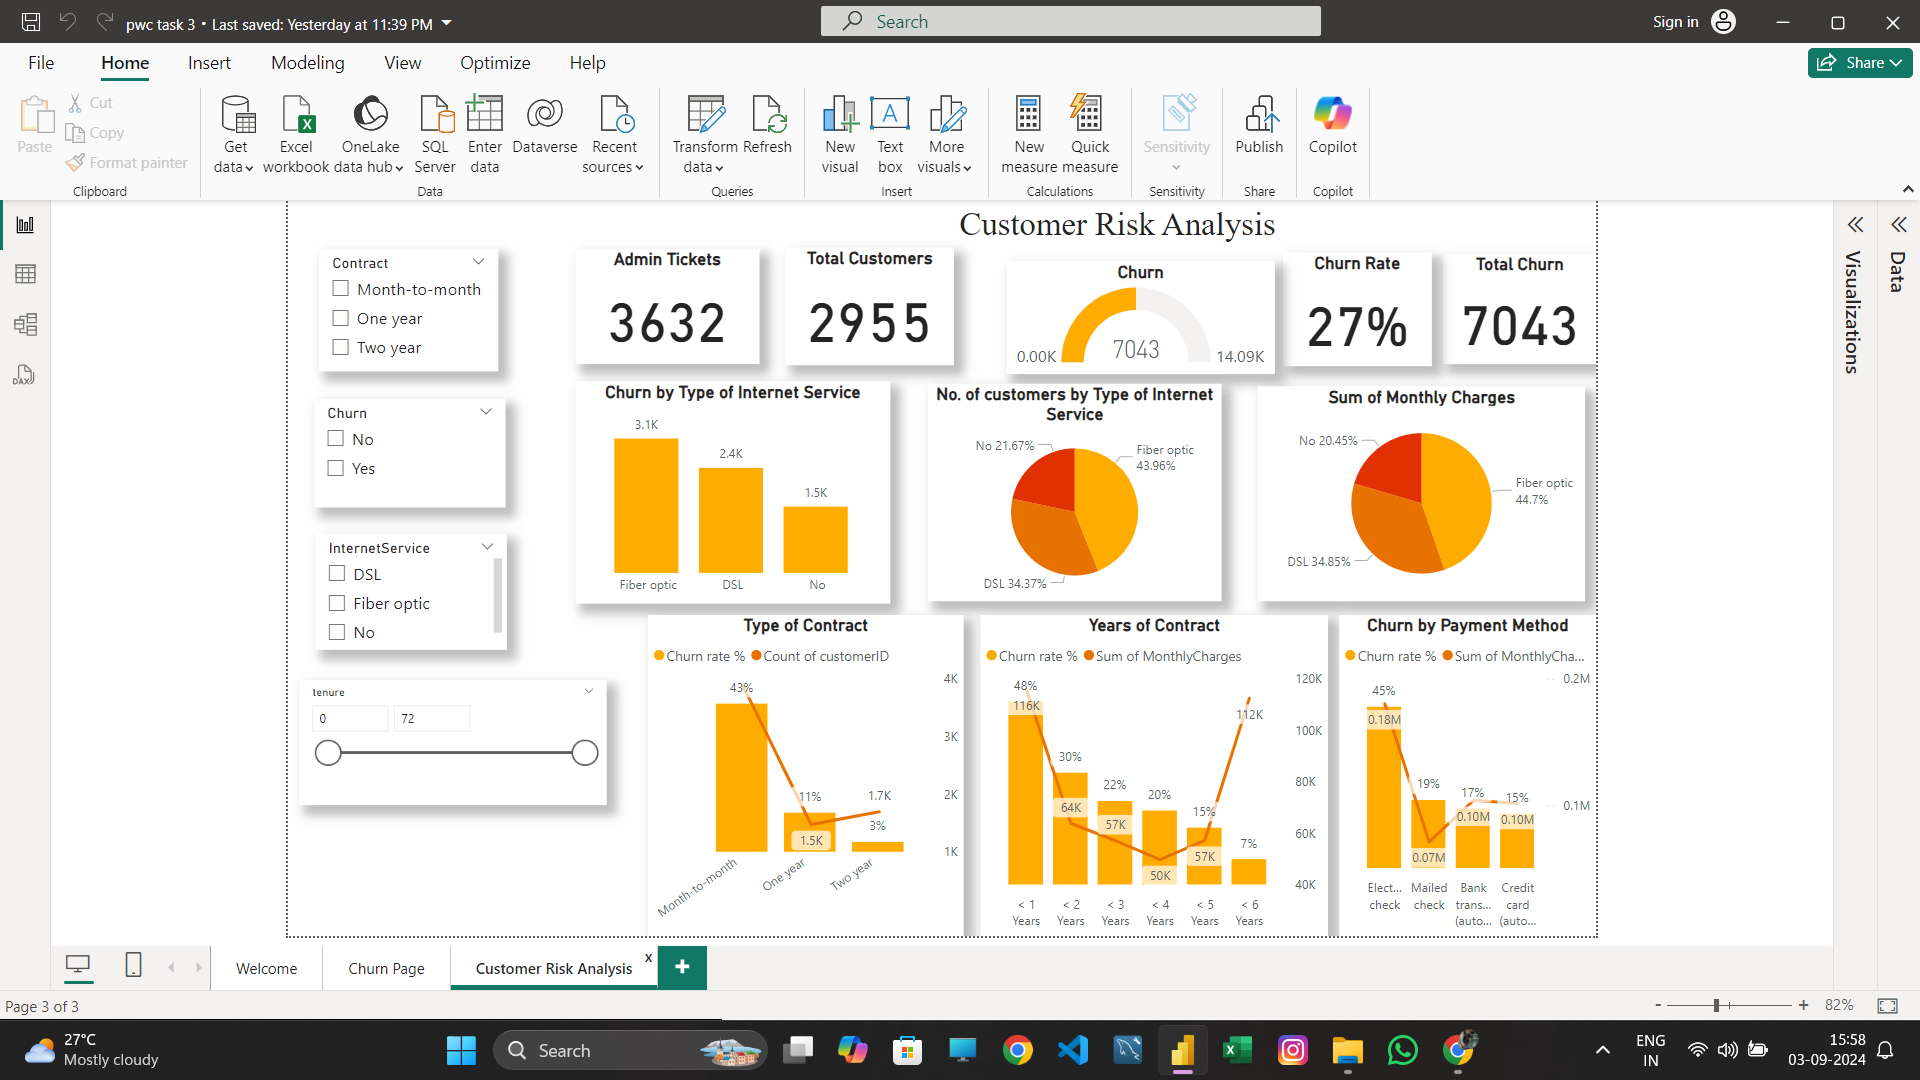

What the dashboard file says about the page in this screenshot:
{"tool":"powerbi","page":{"name":"Customer Risk Analysis","canvas":[1280,720],"ordinal":2},"visuals":[{"type":"textbox","box":[651.2,0,330.8,66.4],"z":0},{"type":"card","title":"Admin Tickets","fields":{"Values":["Sum(01 Churn-Dataset.numAdminTickets)"]},"box":[281.3,47.7,179.8,112.5],"z":8},{"type":"slicer","fields":{"Values":["01 Churn-Dataset.InternetService"]},"box":[26.9,326.5,187.1,113.7],"z":11},{"type":"slicer","fields":{"Values":["01 Churn-Dataset.Churn"]},"box":[25.7,194.4,187.1,106.4],"z":12},{"type":"slicer","fields":{"Values":["01 Churn-Dataset.tenure"]},"box":[11,469.6,300.8,122.3],"z":13},{"type":"slicer","fields":{"Values":["01 Churn-Dataset.Contract"]},"box":[30.6,47.7,174.9,119.8],"z":14},{"type":"card","title":"Total Churn","fields":{"Values":["CountNonNull(01 Churn-Dataset.Churn)"]},"box":[1129.9,52.6,150.4,107.6],"z":16},{"type":"card","title":"Churn Rate","fields":{"Values":["01 Churn-Dataset.Churn rate %"]},"box":[973.4,51.4,145.5,111.3],"z":17},{"type":"gauge","title":"Churn","fields":{"Y":["CountNonNull(01 Churn-Dataset.customerID)"]},"box":[703.6,59.4,262.1,110.7],"z":18},{"type":"card","title":"Total Customers","fields":{"Values":["Sum(01 Churn-Dataset.numTechTickets)"]},"box":[486.7,46.5,165.1,114.9],"z":19},{"type":"clusteredColumnChart","title":"Churn by Type of Internet Service","fields":{"Category":["01 Churn-Dataset.InternetService"],"Y":["CountNonNull(01 Churn-Dataset.Churn)"]},"box":[281.3,177.3,308.2,217.7],"z":20},{"type":"pieChart","title":"No. of customers by Type of Internet Service","fields":{"Category":["01 Churn-Dataset.InternetService"],"Y":["CountNonNull(01 Churn-Dataset.customerID)"]},"box":[626.1,179.8,287.4,212.8],"z":21},{"type":"pieChart","title":"Sum of Monthly Charges","fields":{"Category":["01 Churn-Dataset.InternetService"],"Y":["Sum(01 Churn-Dataset.tenure)"]},"box":[948.9,182.2,320.4,210.3],"z":22},{"type":"lineStackedColumnComboChart","title":"Type of Contract","fields":{"Y":["01 Churn-Dataset.Churn rate %"],"Category":["01 Churn-Dataset.Contract"],"Y2":["CountNonNull(01 Churn-Dataset.customerID)"]},"box":[351.8,405.4,308.7,314.5],"z":23},{"type":"lineStackedColumnComboChart","title":"Years of Contract","fields":{"Category":["01 Churn-Dataset.Subscription"],"Y":["01 Churn-Dataset.Churn rate %"],"Y2":["Sum(01 Churn-Dataset.MonthlyCharges)"]},"box":[678,405.4,340.2,314.5],"z":24},{"type":"lineStackedColumnComboChart","title":"Churn by Payment Method","fields":{"Category":["01 Churn-Dataset.PaymentMethod"],"Y":["01 Churn-Dataset.Churn rate %"],"Y2":["Sum(01 Churn-Dataset.MonthlyCharges)"]},"box":[1028.4,405.4,251.6,314.5],"z":25}]}

Visuals, with their boxes on the page's 1280x720 design canvas (x1, y1, x2, y2). These are canvas units, not pixel positions in the 1920x1080 screenshot, which may show the page scaled, cropped or inside an application window:
textbox: [left=651, top=0, right=982, bottom=66]
"Admin Tickets" card: [left=281, top=48, right=461, bottom=160]
slicer - 01 Churn-Dataset.InternetService: [left=27, top=326, right=214, bottom=440]
slicer - 01 Churn-Dataset.Churn: [left=26, top=194, right=213, bottom=301]
slicer - 01 Churn-Dataset.tenure: [left=11, top=470, right=312, bottom=592]
slicer - 01 Churn-Dataset.Contract: [left=31, top=48, right=206, bottom=168]
"Total Churn" card: [left=1130, top=53, right=1280, bottom=160]
"Churn Rate" card: [left=973, top=51, right=1119, bottom=163]
"Churn" gauge: [left=704, top=59, right=966, bottom=170]
"Total Customers" card: [left=487, top=46, right=652, bottom=161]
"Churn by Type of Internet Service" clusteredColumnChart: [left=281, top=177, right=590, bottom=395]
"No. of customers by Type of Internet Service" pieChart: [left=626, top=180, right=914, bottom=393]
"Sum of Monthly Charges" pieChart: [left=949, top=182, right=1269, bottom=392]
"Type of Contract" lineStackedColumnComboChart: [left=352, top=405, right=660, bottom=720]
"Years of Contract" lineStackedColumnComboChart: [left=678, top=405, right=1018, bottom=720]
"Churn by Payment Method" lineStackedColumnComboChart: [left=1028, top=405, right=1280, bottom=720]
